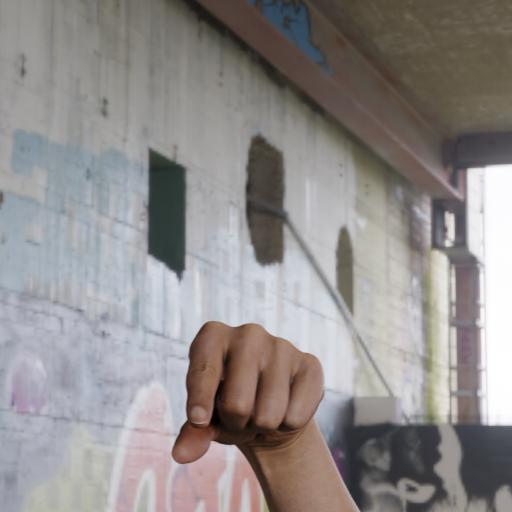Q: (167, 318, 329, 467)
